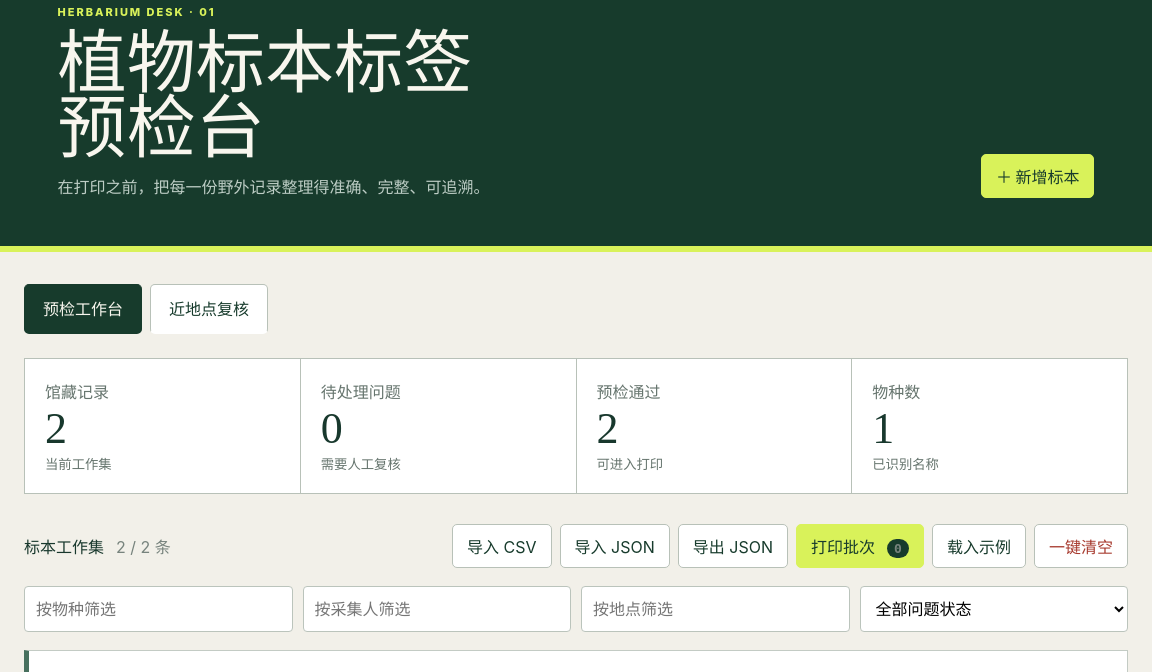
Test: 近地点复核工作区 › 边界距离：实际 100.001 米（展示四舍五入为 100.0 米）在 100 米半径外，101 米半径内
Click the button "近地点复核" at {"x": 209, "y": 309}, box [150,284,268,334]
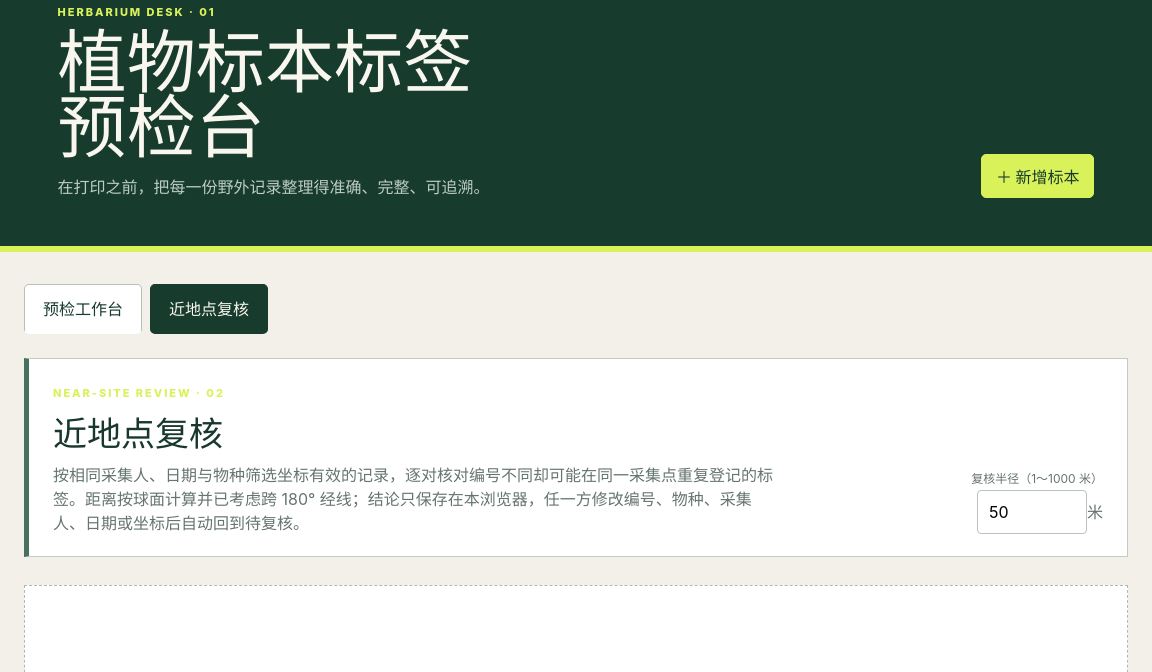
Replace the text in the field named "复核半径，单位米" with "100" at {"x": 1032, "y": 512}, box [977,490,1087,534]
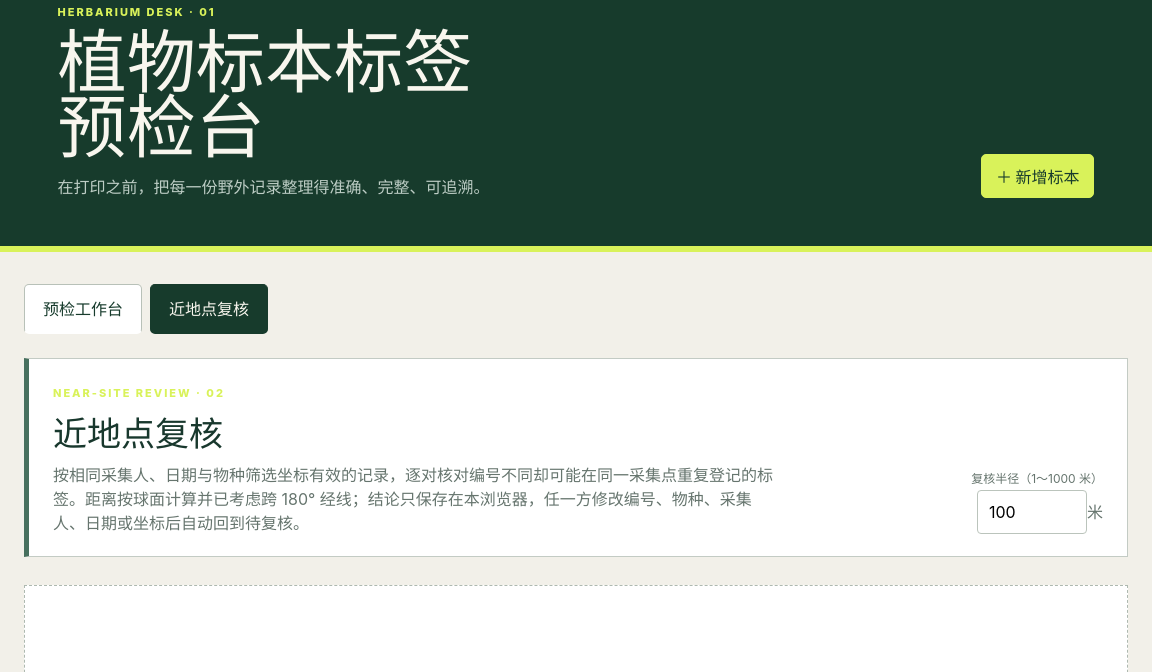
Replace the text in the field named "复核半径，单位米" with "101" at {"x": 1032, "y": 512}, box [977,490,1087,534]
(page scrolled)
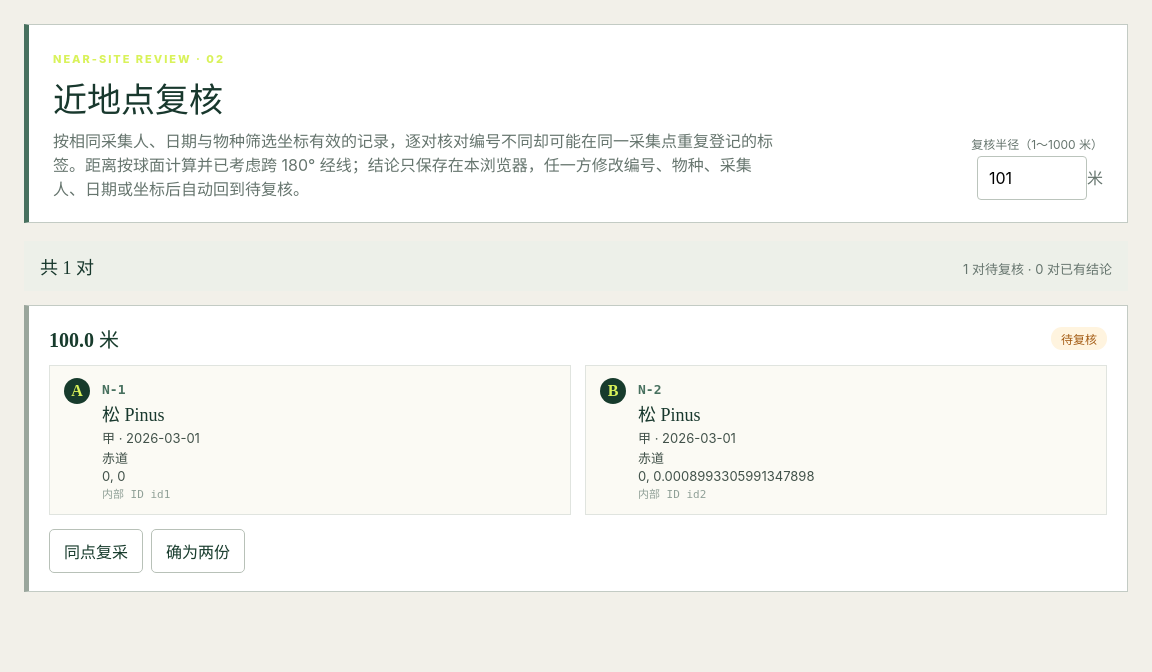
Now the text with class "near-dist" reads "100.0 米", box [49,330,119,352]
